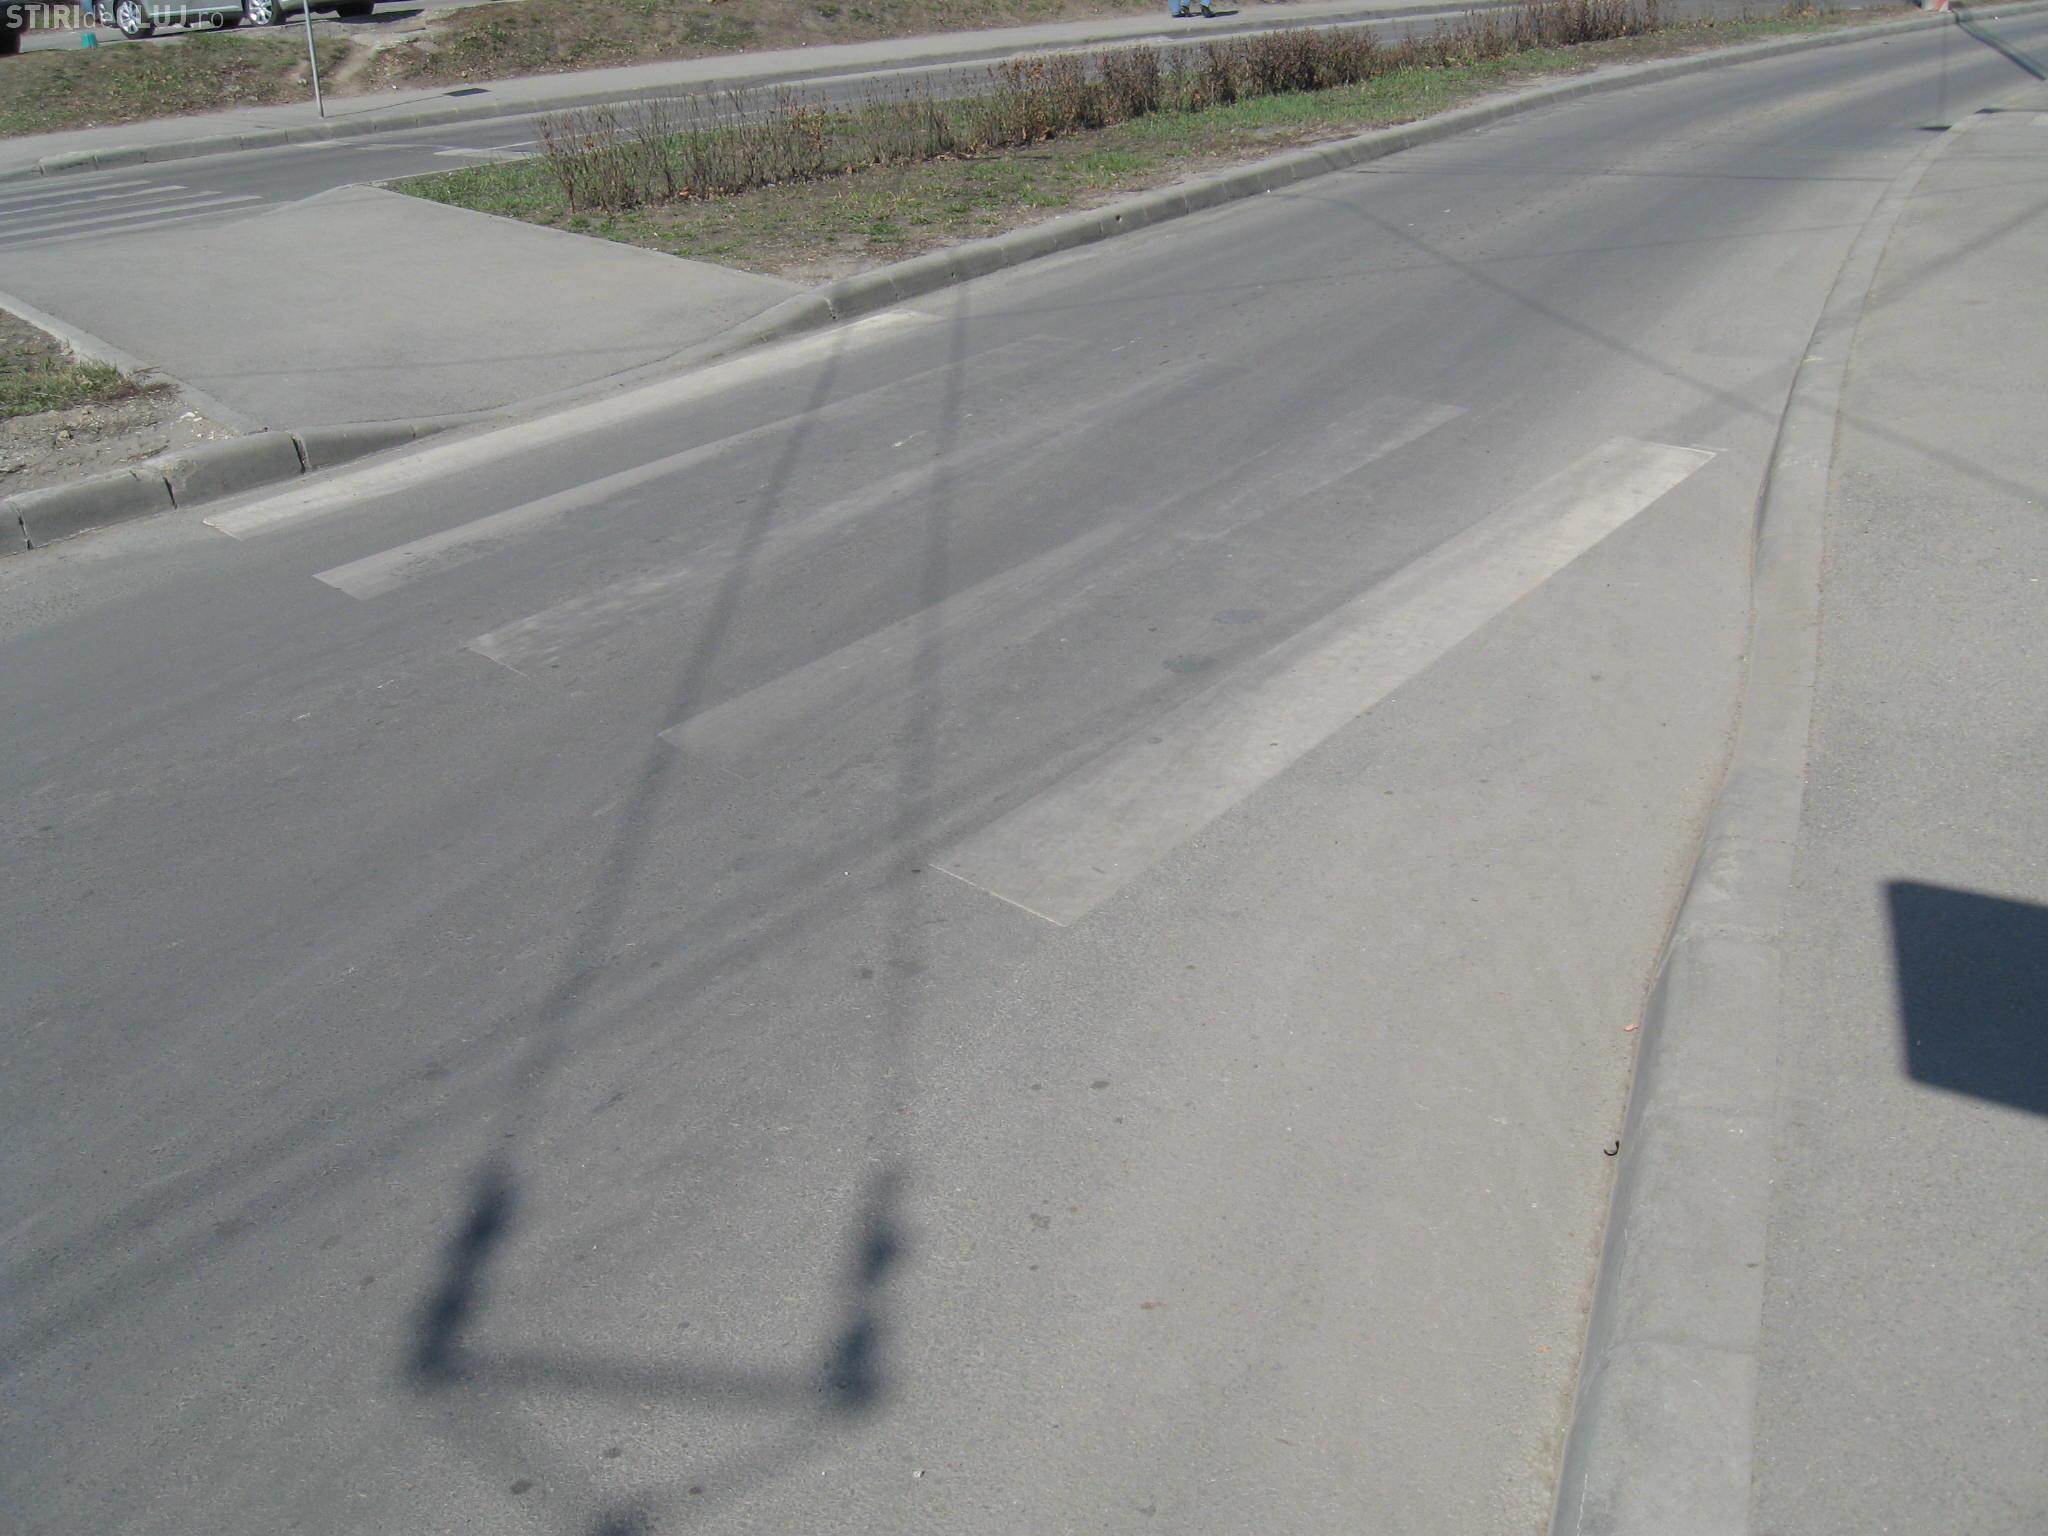faded_road_lines: (197, 294, 1767, 981), (0, 147, 274, 261), (310, 110, 760, 169)
